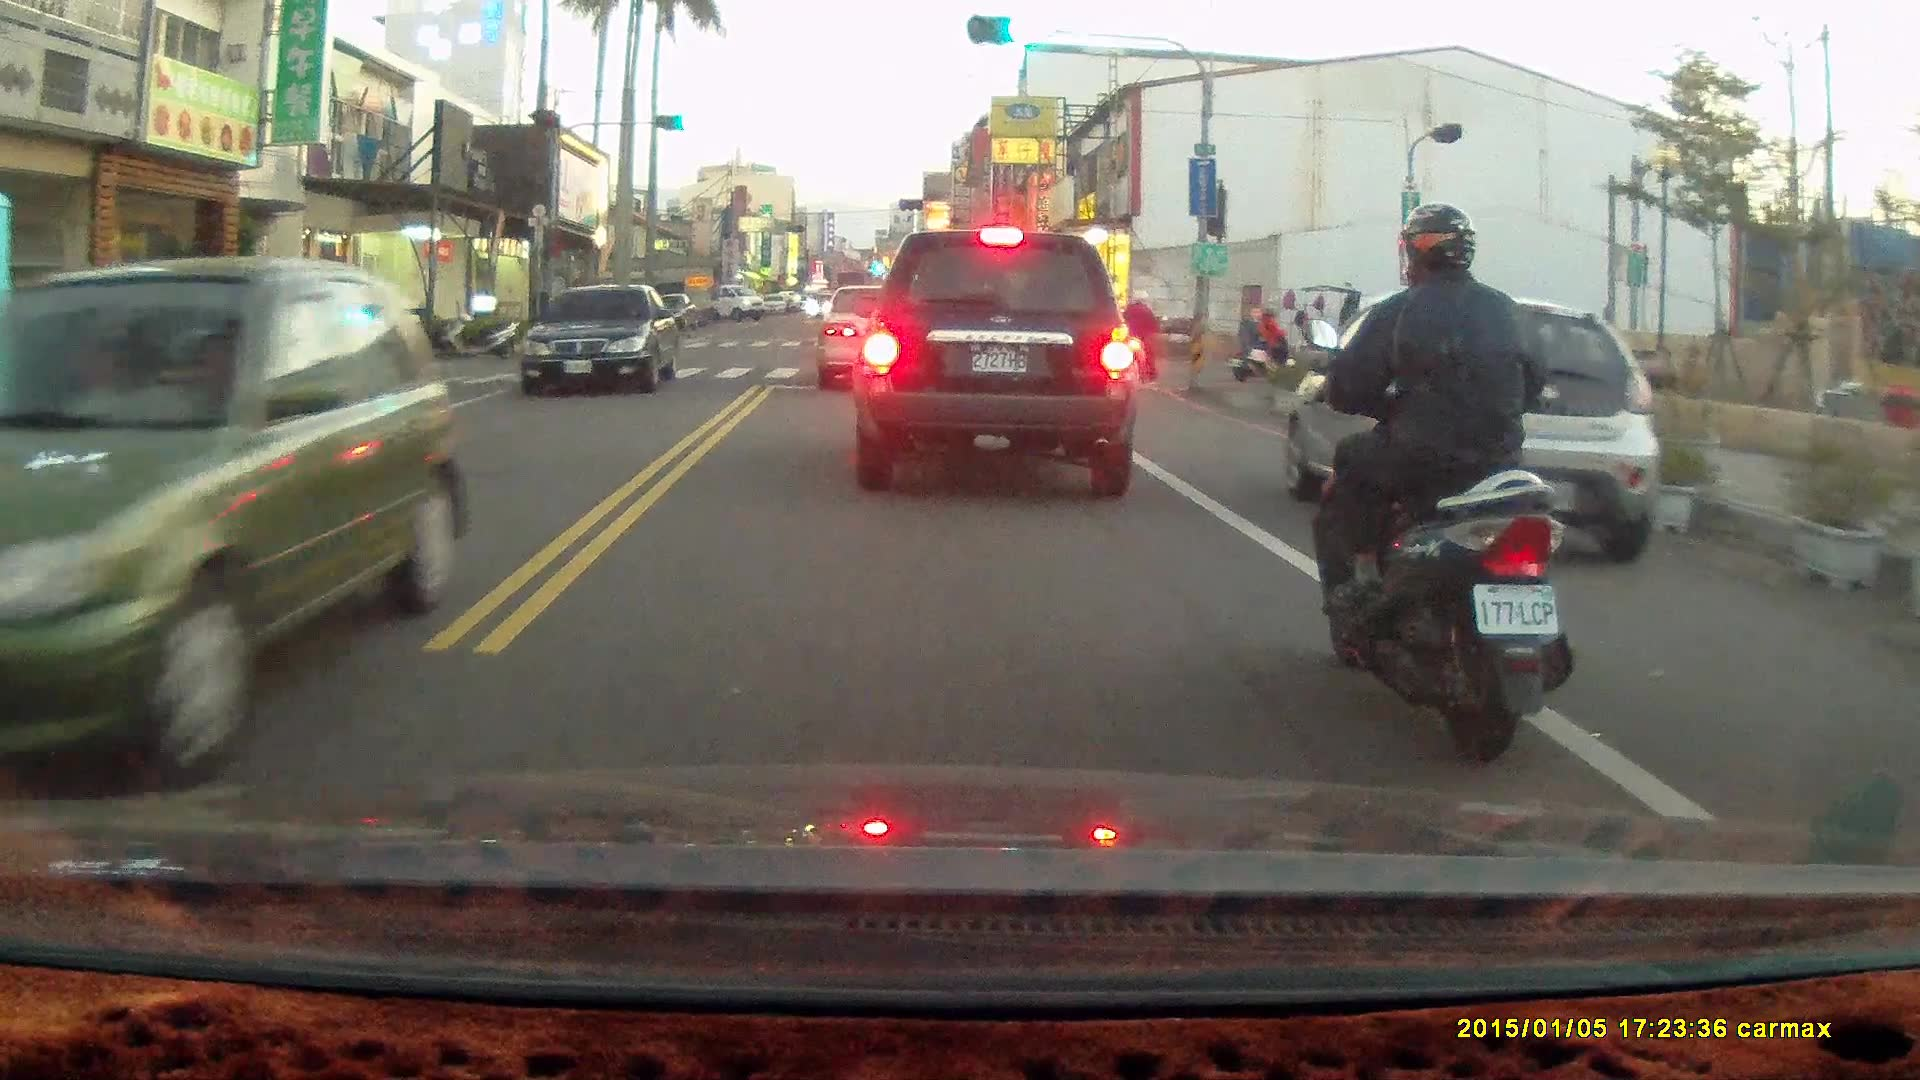rider: (1298, 199, 1574, 763), (1228, 298, 1293, 379), (1113, 285, 1162, 388)
vehicle: (1, 249, 479, 769), (1280, 290, 1665, 562), (856, 224, 1137, 501), (523, 284, 681, 399), (816, 283, 940, 397)
